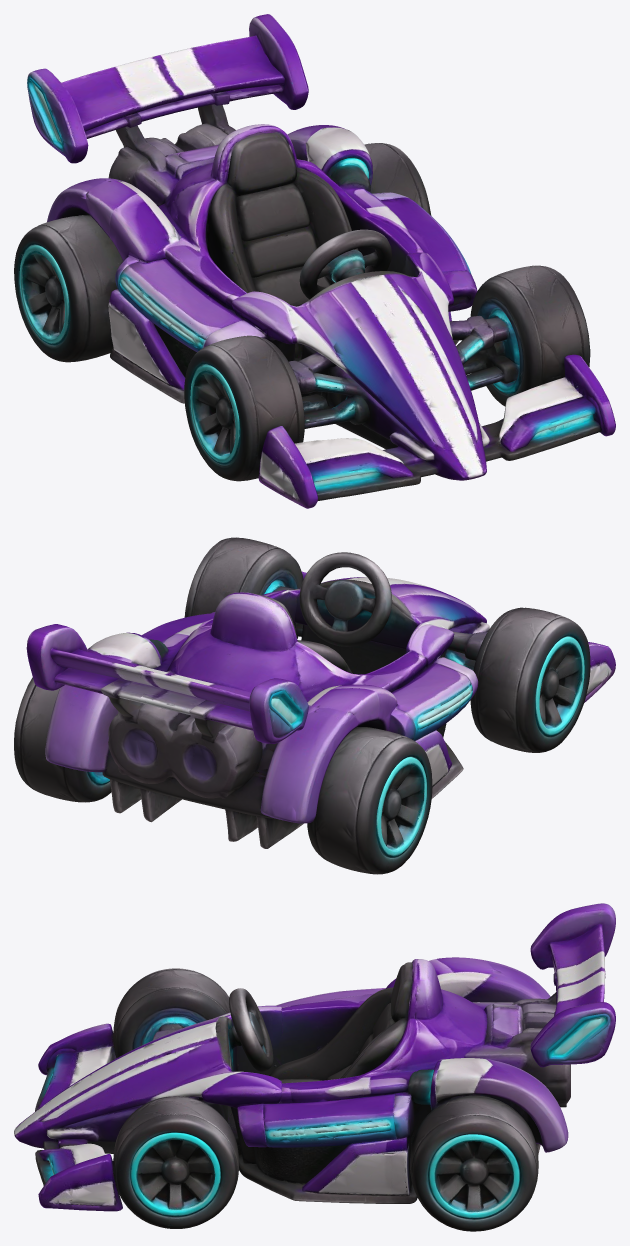
Rendered from kart4.glb.
3 renders of one model, top to bottom at view 1: azimuth 30°, elevation 25°; view 2: azimuth 150°, elevation 25°; view 3: azimuth 270°, elevation 25°, orthographic. The views are drawn at different scales.
Parts seen in each view (by area): view 1: tripo_part_7, tripo_part_6, tripo_part_1, tripo_part_31, tripo_part_0, tripo_part_4, tripo_part_10, tripo_part_12, tripo_part_30, tripo_part_25, tripo_part_43, tripo_part_5 (+28 smaller); view 2: tripo_part_31, tripo_part_1, tripo_part_0, tripo_part_8, tripo_part_7, tripo_part_15, tripo_part_4, tripo_part_19, tripo_part_36, tripo_part_40, tripo_part_22, tripo_part_38 (+22 smaller); view 3: tripo_part_19, tripo_part_4, tripo_part_6, tripo_part_5, tripo_part_8, tripo_part_1, tripo_part_9, tripo_part_30, tripo_part_0, tripo_part_18, tripo_part_34, tripo_part_40 (+20 smaller).
Part boxes in pixels (<box>): tripo_part_7: <box>231,273,472,480</box>; tripo_part_6: <box>207,131,423,357</box>; tripo_part_1: <box>184,335,304,481</box>; tripo_part_31: <box>14,215,122,362</box>; tripo_part_0: <box>47,178,242,351</box>; tripo_part_4: <box>470,265,590,406</box>; tripo_part_10: <box>350,273,486,478</box>; tripo_part_12: <box>258,426,412,508</box>; tripo_part_30: <box>499,354,615,451</box>; tripo_part_25: <box>61,55,186,131</box>; tripo_part_43: <box>155,35,284,99</box>; tripo_part_5: <box>366,252,486,477</box>; tripo_part_31: <box>307,727,432,874</box>; tripo_part_1: <box>470,607,590,752</box>; tripo_part_0: <box>255,662,472,823</box>; tripo_part_8: <box>45,632,168,772</box>; tripo_part_7: <box>347,581,489,667</box>; tripo_part_15: <box>299,552,392,646</box>; tripo_part_4: <box>184,537,303,638</box>; tripo_part_19: <box>14,677,111,802</box>; tripo_part_36: <box>165,715,265,798</box>; tripo_part_40: <box>167,625,310,701</box>; tripo_part_22: <box>108,670,189,783</box>; tripo_part_38: <box>210,592,297,651</box>; tripo_part_19: <box>410,1095,538,1231</box>; tripo_part_4: <box>112,1096,238,1228</box>; tripo_part_6: <box>269,962,436,1103</box>; tripo_part_5: <box>19,1027,282,1154</box>; tripo_part_8: <box>408,1058,568,1152</box>; tripo_part_1: <box>113,968,229,1058</box>; tripo_part_9: <box>262,1094,402,1147</box>; tripo_part_30: <box>38,1143,122,1211</box>; tripo_part_0: <box>275,957,550,1007</box>; tripo_part_18: <box>530,1002,615,1067</box>; tripo_part_34: <box>302,1136,410,1195</box>; tripo_part_40: <box>413,989,502,1062</box>.
Size of the model in its own units: 0.6158 by 0.3643 by 0.9797.
Materials: 67 (67 with a texture image).
